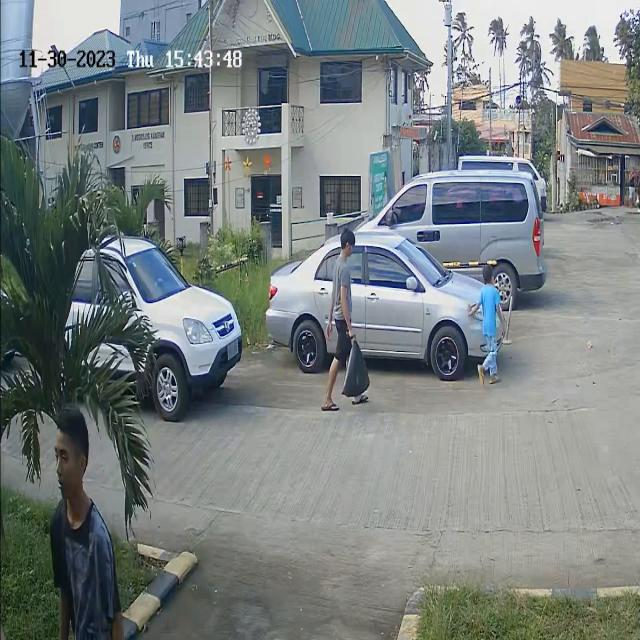garbage: (340, 340, 370, 396)
person: (50, 419, 96, 581), (476, 272, 502, 388), (332, 229, 353, 339)
